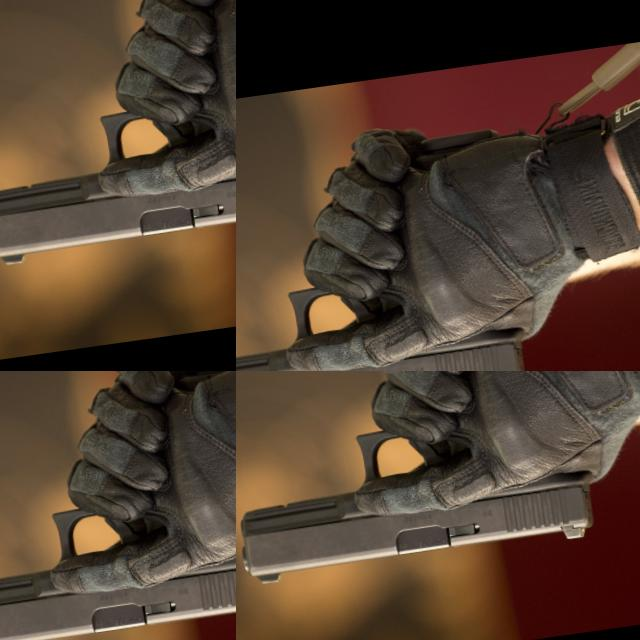handgun: (236, 399, 603, 591), (28, 0, 236, 317), (377, 211, 640, 371), (41, 537, 167, 640)
